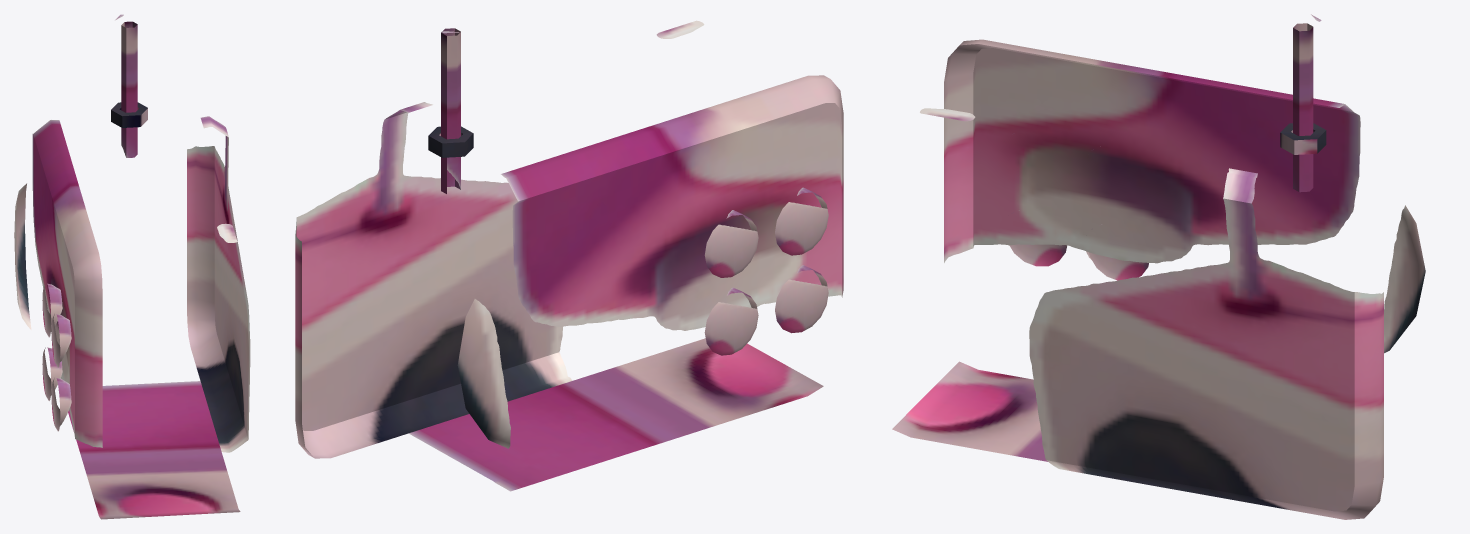
File: radio.fbx
The picture shows the model from 3 angles, left to right: view 1: azimuth 30°, elevation 25°; view 2: azimuth 150°, elevation 25°; view 3: azimuth 270°, elevation 25°; orthographic projection. The views are drawn at different scales.
Parts seen in each view (by area): view 1: radio; view 2: radio; view 3: radio.
Part boxes in pixels (left/top/right/bottom): radio: left=14, top=14, right=250, bottom=519; radio: left=295, top=20, right=843, bottom=491; radio: left=892, top=14, right=1425, bottom=519.
Size of the model in its own units: 0.2907 by 0.3385 by 0.4012.
